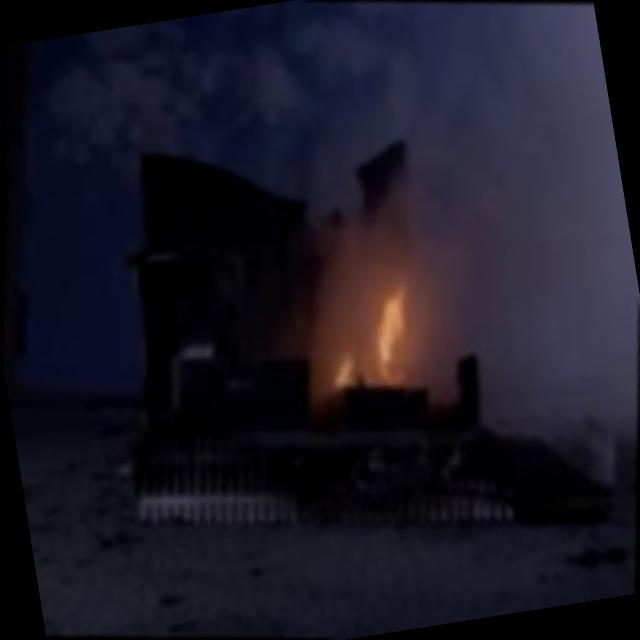fire: (306, 220, 467, 417)
smoke: (392, 0, 635, 299)
